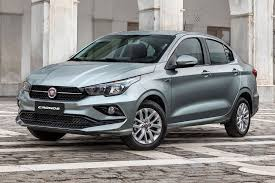car: (15, 31, 262, 145)
